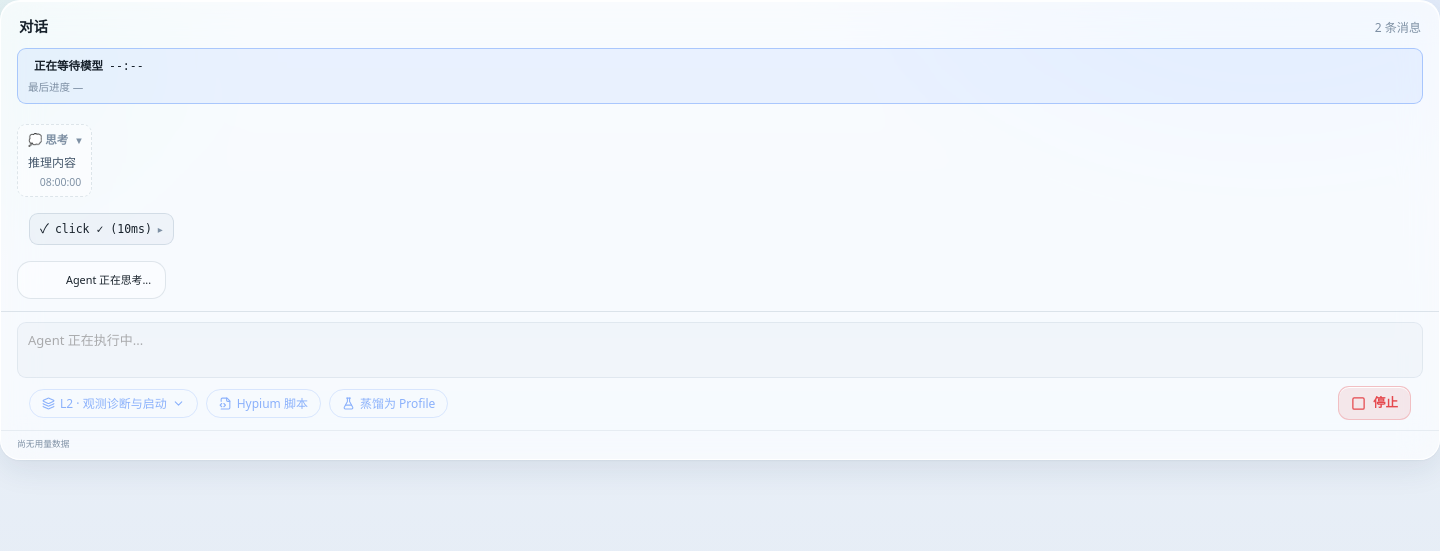
DcChat › 思考块可折叠，展开后可见工具卡参数与结果
Expected: the text "推理内容" is shown, [28,154,81,172]
Step 1. Click the text "💭 思考" → (48, 140), box [28,131,68,149]
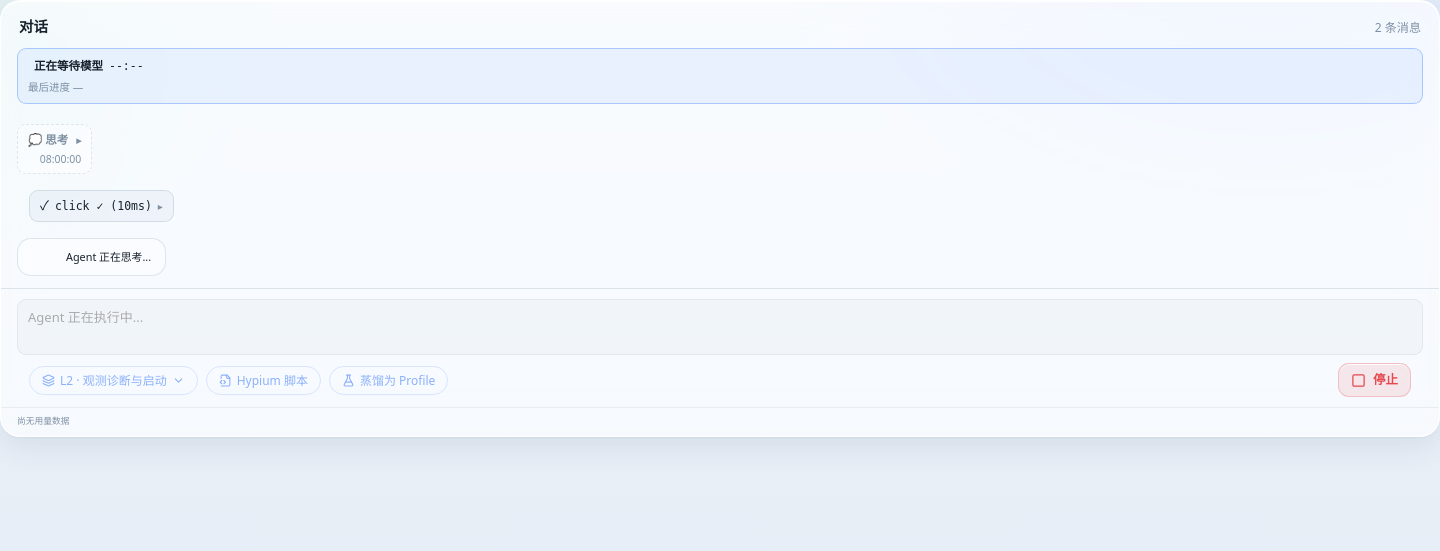
Now the text "推理内容" is gone
Step 2. Click the text "click ✓ (10ms)" → (103, 206), box [55,198,152,215]
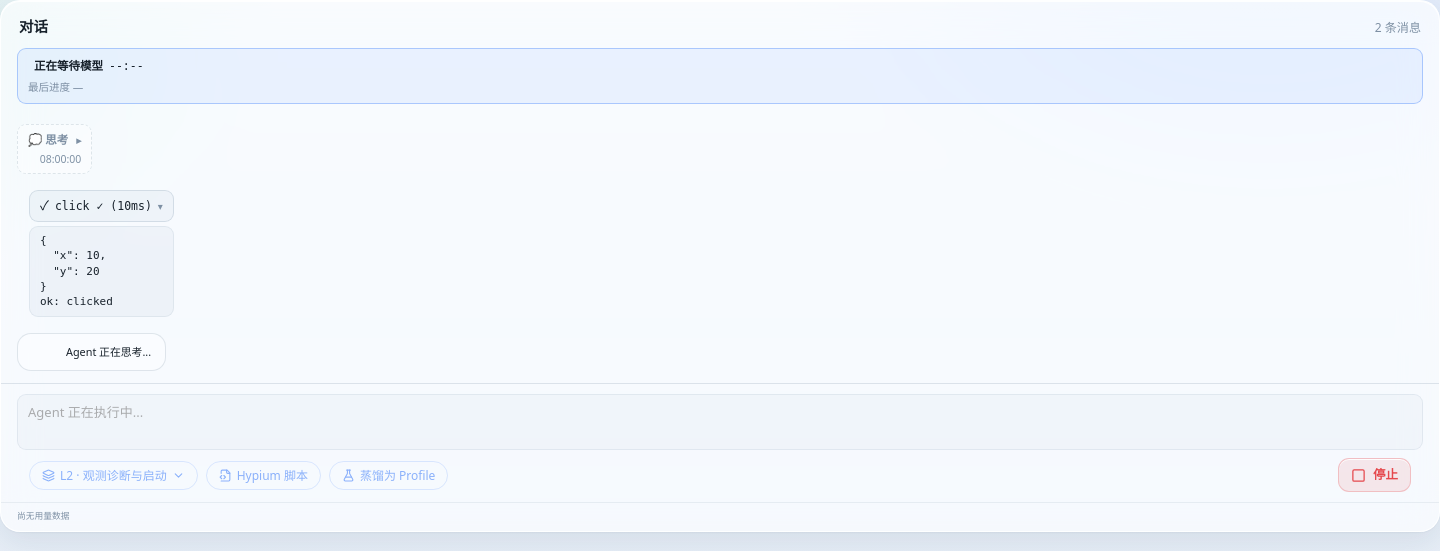
Now the text "\"x\": 10" is shown, box [40,234,106,293]
Now the text "ok: clicked" is shown, box [40,295,113,308]
